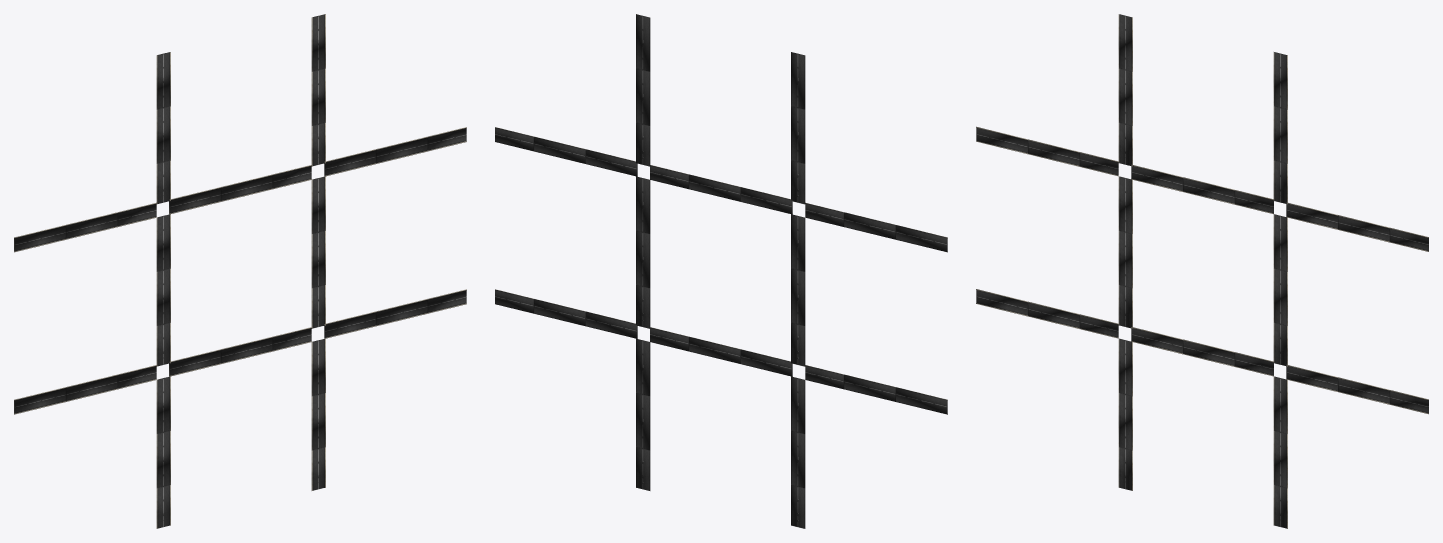
The model's file is city_streets.obj.
3 views of the same model, side by side, from view 1: azimuth 30°, elevation 25°; view 2: azimuth 150°, elevation 25°; view 3: azimuth 330°, elevation 25° (orthographic).
Parts seen in each view (by area): view 1: (null).023_(null).071, (null).016_(null).064, (null).019_(null).067, (null).017_(null).065, (null).013_(null).061, (null).010_(null).058, (null).022_(null).070, (null).018_(null).066, (null).007_(null).055, (null).012_(null).060, (null).011_(null).059, (null).006_(null).054 (+24 smaller); view 2: (null).028_(null).076, (null).034_(null).082, (null).031_(null).079, (null).025_(null).073, (null).016_(null).064, (null).013_(null).061, (null).010_(null).058, (null).022_(null).070, (null).019_(null).067, (null).012_(null).060, (null).011_(null).059, (null).007_(null).055 (+24 smaller); view 3: (null).019_(null).067, (null).022_(null).070, (null).016_(null).064, (null).023_(null).071, (null).018_(null).066, (null).017_(null).065, (null).010_(null).058, (null).007_(null).055, (null).013_(null).061, (null).012_(null).060, (null).006_(null).054, (null).011_(null).059 (+24 smaller).
Part boxes in pixels (x1,y1,x2,y2): (null).023_(null).071: [311, 393, 325, 450]; (null).016_(null).064: [311, 14, 325, 71]; (null).019_(null).067: [311, 176, 325, 233]; (null).017_(null).065: [311, 68, 325, 125]; (null).013_(null).061: [156, 52, 170, 109]; (null).010_(null).058: [156, 214, 170, 271]; (null).022_(null).070: [311, 338, 325, 395]; (null).018_(null).066: [311, 230, 325, 287]; (null).007_(null).055: [156, 376, 170, 433]; (null).012_(null).060: [156, 106, 170, 163]; (null).011_(null).059: [156, 268, 170, 325]; (null).006_(null).054: [156, 430, 170, 487]; (null).028_(null).076: [740, 187, 792, 214]; (null).034_(null).082: [585, 311, 637, 338]; (null).031_(null).079: [585, 149, 637, 176]; (null).025_(null).073: [740, 349, 792, 376]; (null).016_(null).064: [636, 14, 650, 71]; (null).013_(null).061: [791, 52, 805, 109]; (null).010_(null).058: [791, 214, 805, 271]; (null).022_(null).070: [636, 338, 650, 395]; (null).019_(null).067: [636, 176, 650, 233]; (null).012_(null).060: [791, 106, 805, 163]; (null).011_(null).059: [791, 268, 805, 325]; (null).007_(null).055: [791, 376, 805, 433]; (null).019_(null).067: [1273, 214, 1287, 271]; (null).022_(null).070: [1273, 376, 1287, 433]; (null).016_(null).064: [1273, 52, 1287, 109]; (null).023_(null).071: [1273, 431, 1287, 488]; (null).018_(null).066: [1273, 268, 1287, 325]; (null).017_(null).065: [1273, 106, 1287, 163]; (null).010_(null).058: [1118, 176, 1132, 233]; (null).007_(null).055: [1118, 338, 1132, 396]; (null).013_(null).061: [1118, 14, 1132, 71]; (null).012_(null).060: [1118, 68, 1132, 125]; (null).006_(null).054: [1118, 393, 1132, 450]; (null).011_(null).059: [1118, 230, 1132, 287].
Bounding box in the file's own units: 321 × 321 × 0.297.
